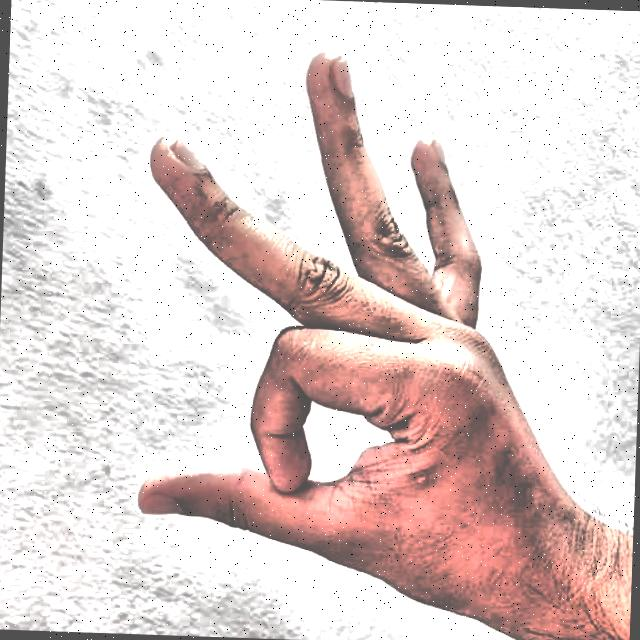Uo: (69, 31, 621, 628)
